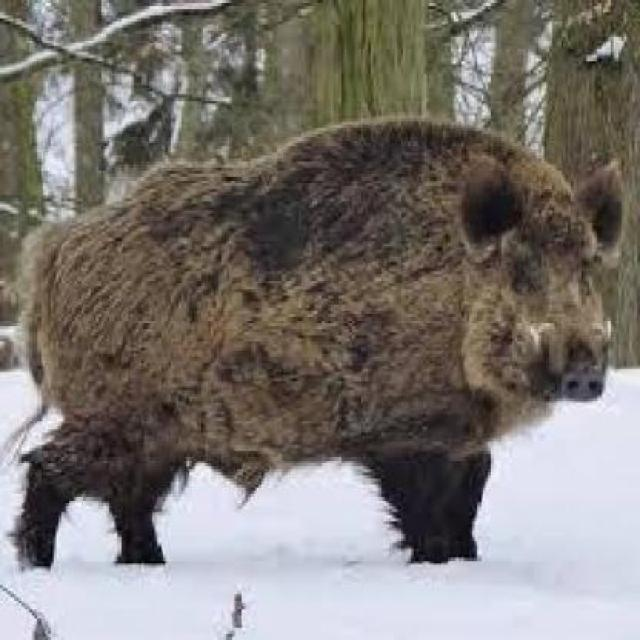wildboar: (11, 110, 634, 576)
